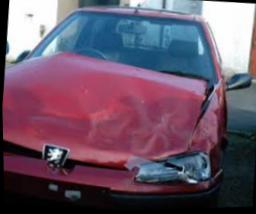Bonnet: (2, 50, 216, 169)
Light: (135, 155, 208, 185)
